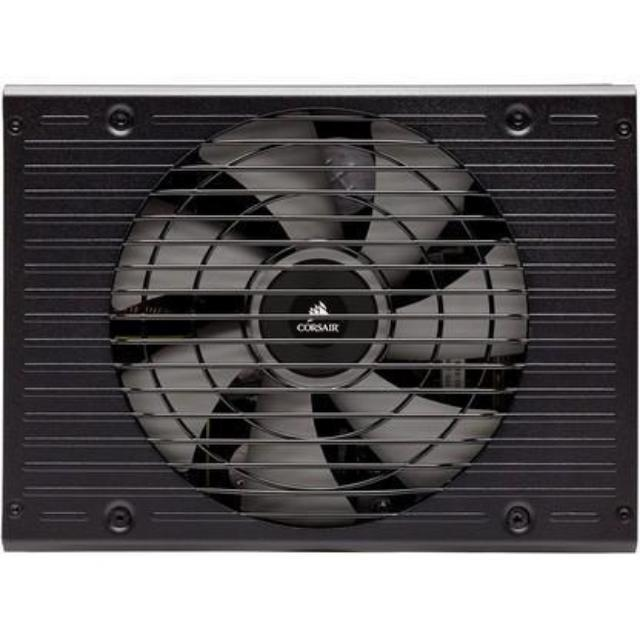PSU: (0, 75, 640, 567)
